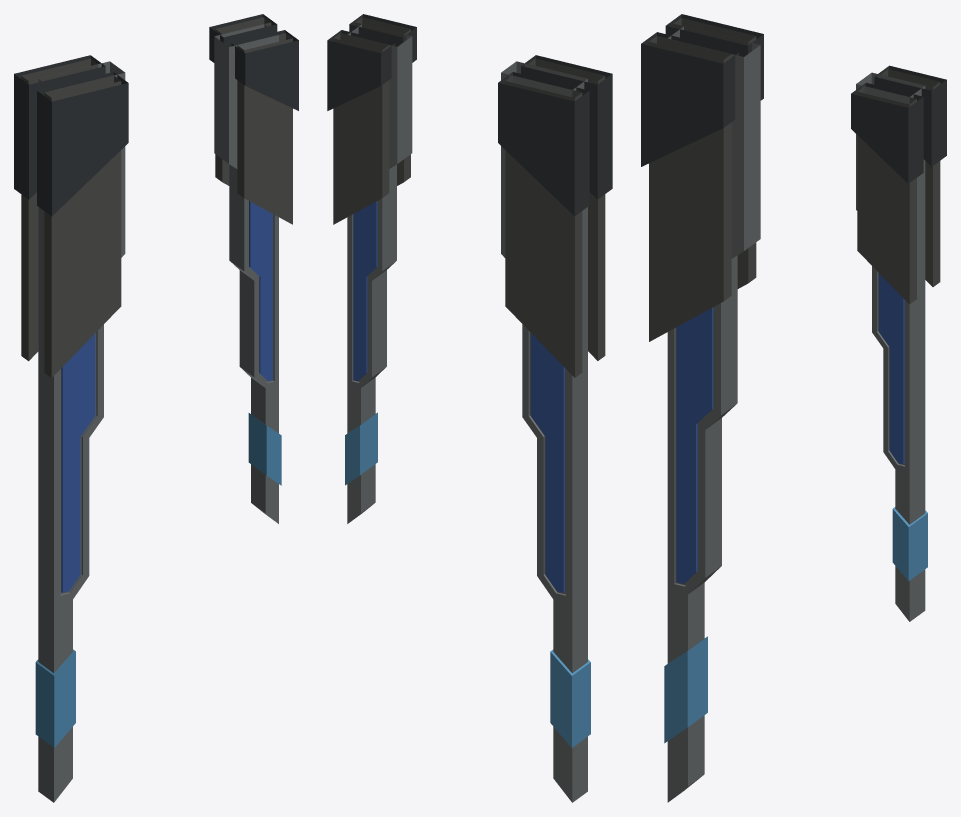
Rendered from sp_sci_fi_antenna.glb.
3 renders of one model, left to right at view 1: azimuth 30°, elevation 25°; view 2: azimuth 150°, elevation 25°; view 3: azimuth 330°, elevation 25°, orthographic. The views are drawn at different scales.
Visible parts, largest first — view 1: SP_Sci_fi_Antenna; view 2: SP_Sci_fi_Antenna; view 3: SP_Sci_fi_Antenna.
Part boxes in pixels (x1,y1,x2,y2): SP_Sci_fi_Antenna: (14, 14, 298, 802); SP_Sci_fi_Antenna: (327, 14, 612, 802); SP_Sci_fi_Antenna: (641, 14, 946, 802).
Size of the model in its own units: 134 by 368 by 35.44.
1 material, 1 textured.
